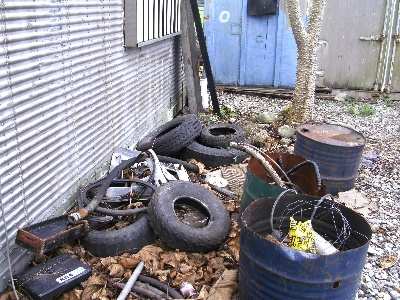bucket: (239, 194, 373, 300), (295, 123, 366, 195)
tire: (149, 180, 232, 251), (135, 113, 201, 158), (200, 123, 246, 148)
